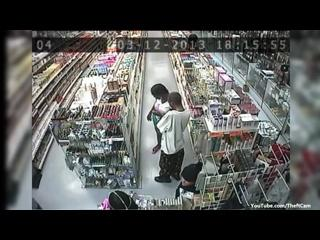Normal: (153, 92, 191, 183), (146, 84, 170, 154)
